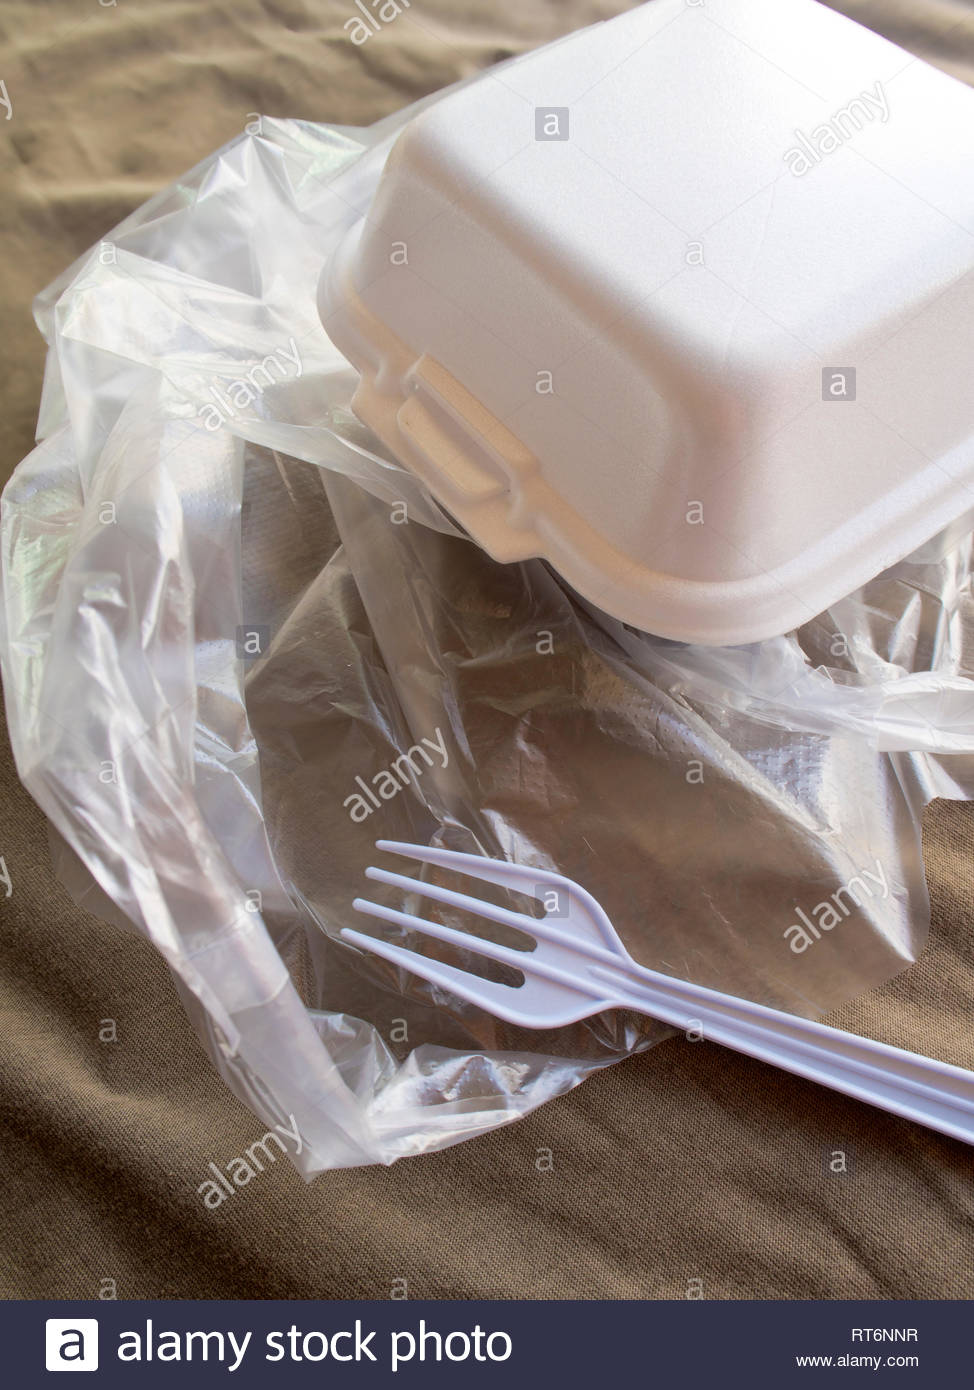Foam Box: (310, 1, 974, 657)
